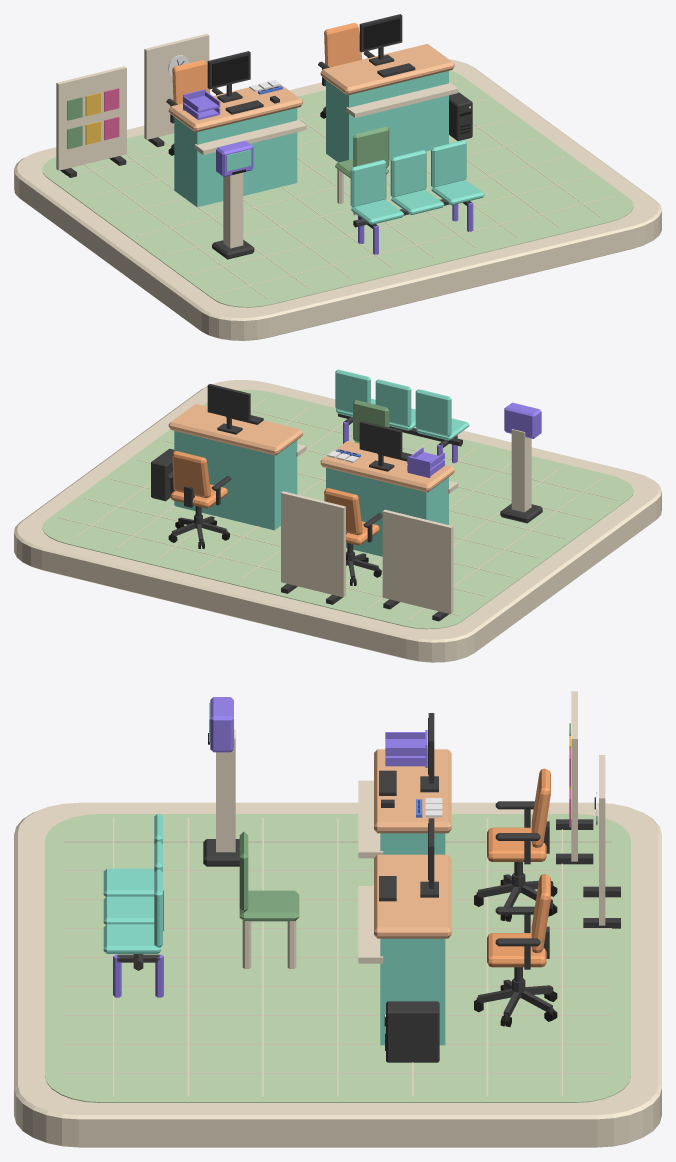
File: room.fbx
The picture shows the model from 3 angles, top to bottom: view 1: azimuth 30°, elevation 25°; view 2: azimuth 150°, elevation 25°; view 3: azimuth 270°, elevation 25°; orthographic projection. The views are drawn at different scales.
Visible parts, largest first — view 1: COM-02 Floor Surface, COM-01 Rounded Base Direct, Counter body, Counter body.001, Panel, Panel.001, Countertop.001, Countertop, COM-04_Chair_blender_direct.001, Frame, Frame.001, Pedestal (+15 smaller); view 2: COM-02 Floor Surface, COM-01 Rounded Base Direct, Counter body.001, Panel, Panel.001, Counter body, COM-04_Chair_blender_direct.001, Countertop.001, Countertop, COM-04_Chair_blender_direct, Pedestal, Frame.001 (+8 smaller); view 3: COM-02 Floor Surface, COM-01 Rounded Base Direct, Countertop.001, COM-04_Chair_blender_direct.001, COM-04_Chair_blender_direct, Counter body.001, Countertop, Tower, Pedestal, Seat.003, Seat.002, Seat (+15 smaller).
Boxes of the visible parts, x1,y1,x2,y2 form: COM-02 Floor Surface: (42,70,633,307); COM-01 Rounded Base Direct: (14,59,661,340); Counter body: (174,108,297,207); Counter body.001: (326,71,448,162); Panel: (56,66,126,170); Panel.001: (144,33,209,139); Countertop.001: (320,44,454,95); Countertop: (168,83,302,132); COM-04_Chair_blender_direct.001: (318,23,375,118); Frame: (207,51,250,102); Frame.001: (359,14,402,65); Pedestal: (223,172,243,248); COM-02 Floor Surface: (42,389,633,629); COM-01 Rounded Base Direct: (14,380,661,662); Counter body.001: (174,431,297,530); Panel: (382,509,453,614); Panel.001: (281,491,345,597); Counter body: (326,468,448,556); COM-04_Chair_blender_direct.001: (166,451,231,548); Countertop.001: (168,404,302,455); Countertop: (320,441,454,492); COM-04_Chair_blender_direct: (324,488,382,585); Pedestal: (511,429,531,512); Frame.001: (207,384,250,434); COM-02 Floor Surface: (45,814,630,1102); COM-01 Rounded Base Direct: (14,802,661,1147); Countertop.001: (374,854,451,938); COM-04_Chair_blender_direct.001: (474,874,557,1026); COM-04_Chair_blender_direct: (474,768,557,921); Counter body.001: (380,938,445,1045); Countertop: (374,749,451,833); Tower: (386,1001,439,1062); Pedestal: (216,729,235,852); Seat.003: (239,890,299,921); Seat.002: (103,924,160,953); Seat: (103,868,154,896).
Bounding box in the file's own units: 600 × 187 × 520.
